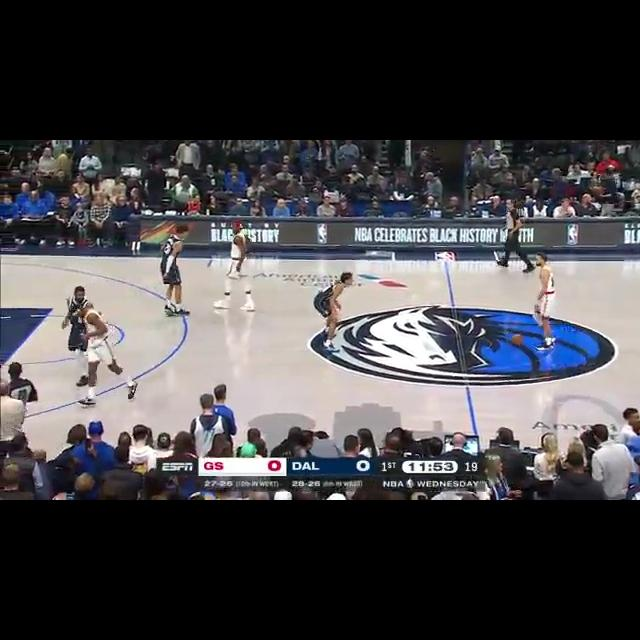Ball: (511, 330, 525, 350)
Team-1-Player: (307, 269, 359, 355), (156, 224, 192, 320), (62, 284, 98, 354)
Team-2-Player: (70, 304, 142, 404), (210, 220, 262, 314), (531, 252, 561, 350)
